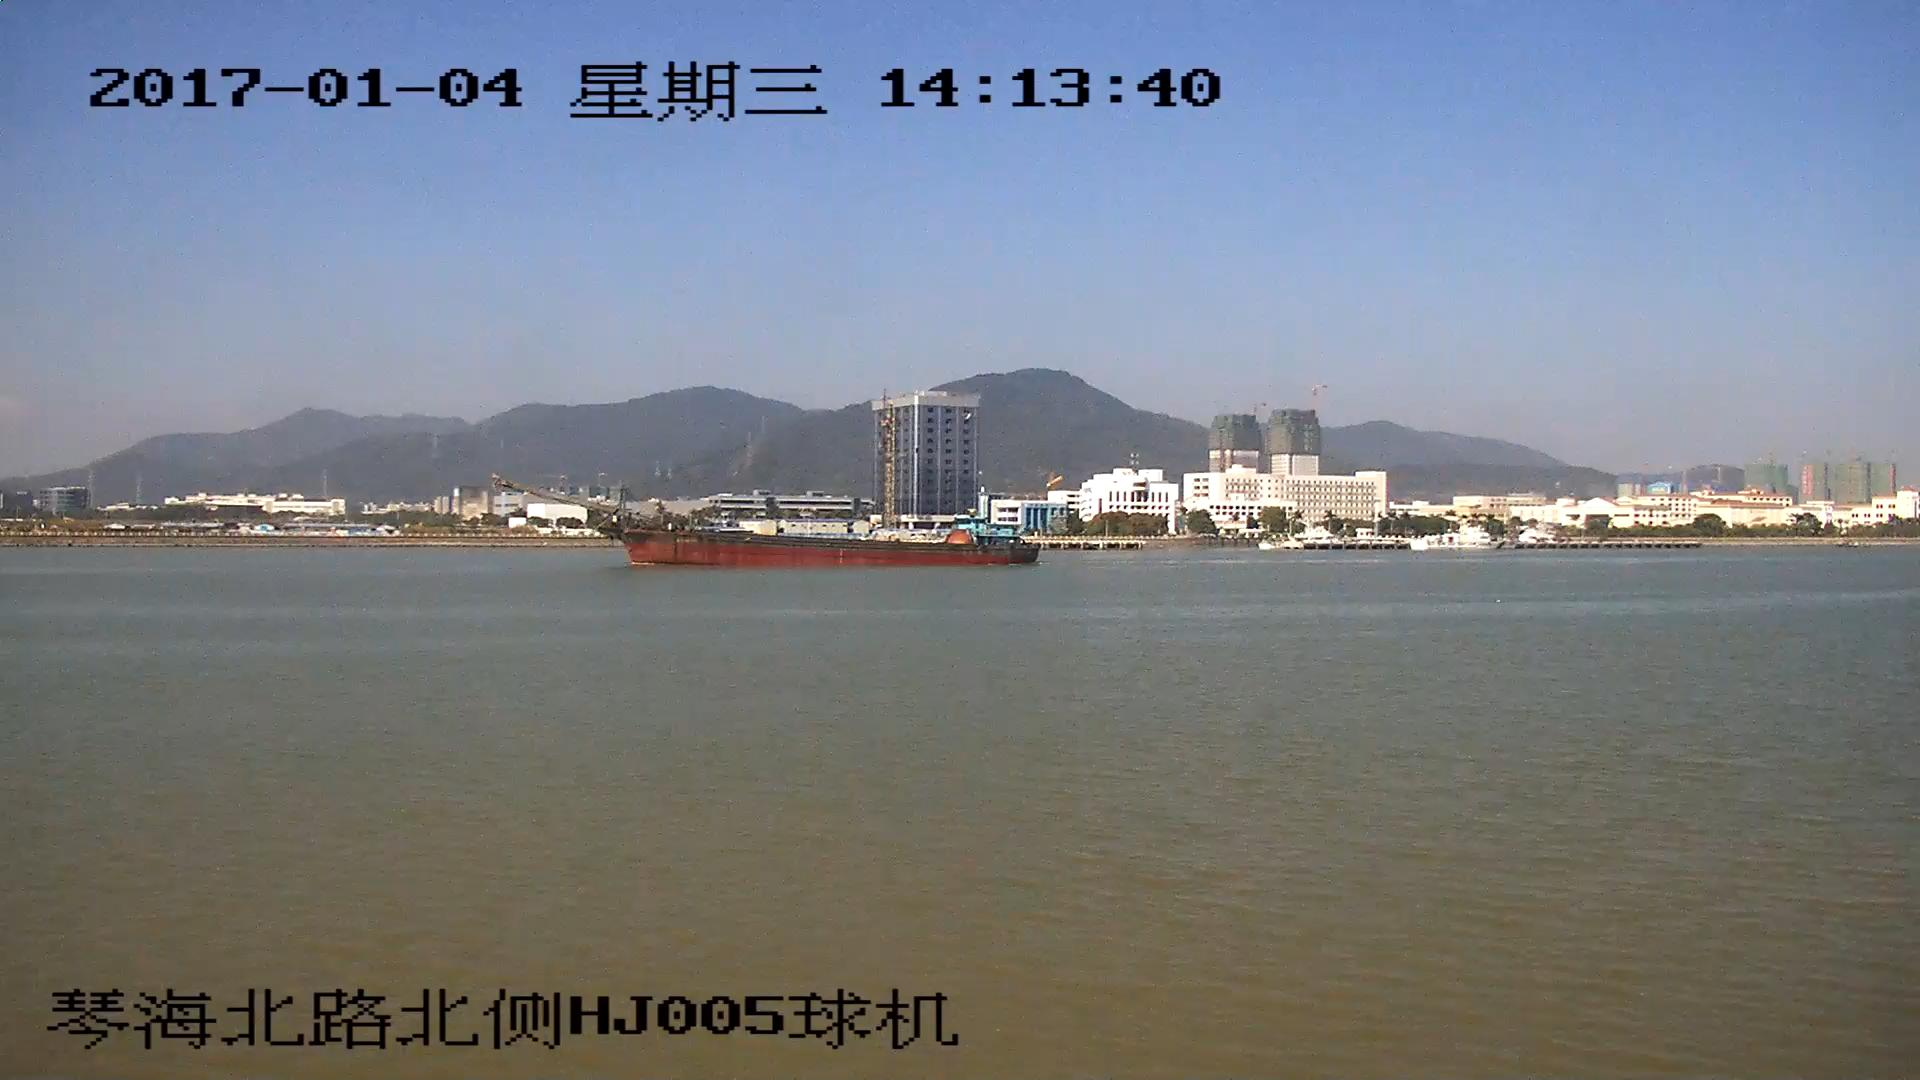bulk cargo carrier: (506, 483, 1034, 568)
